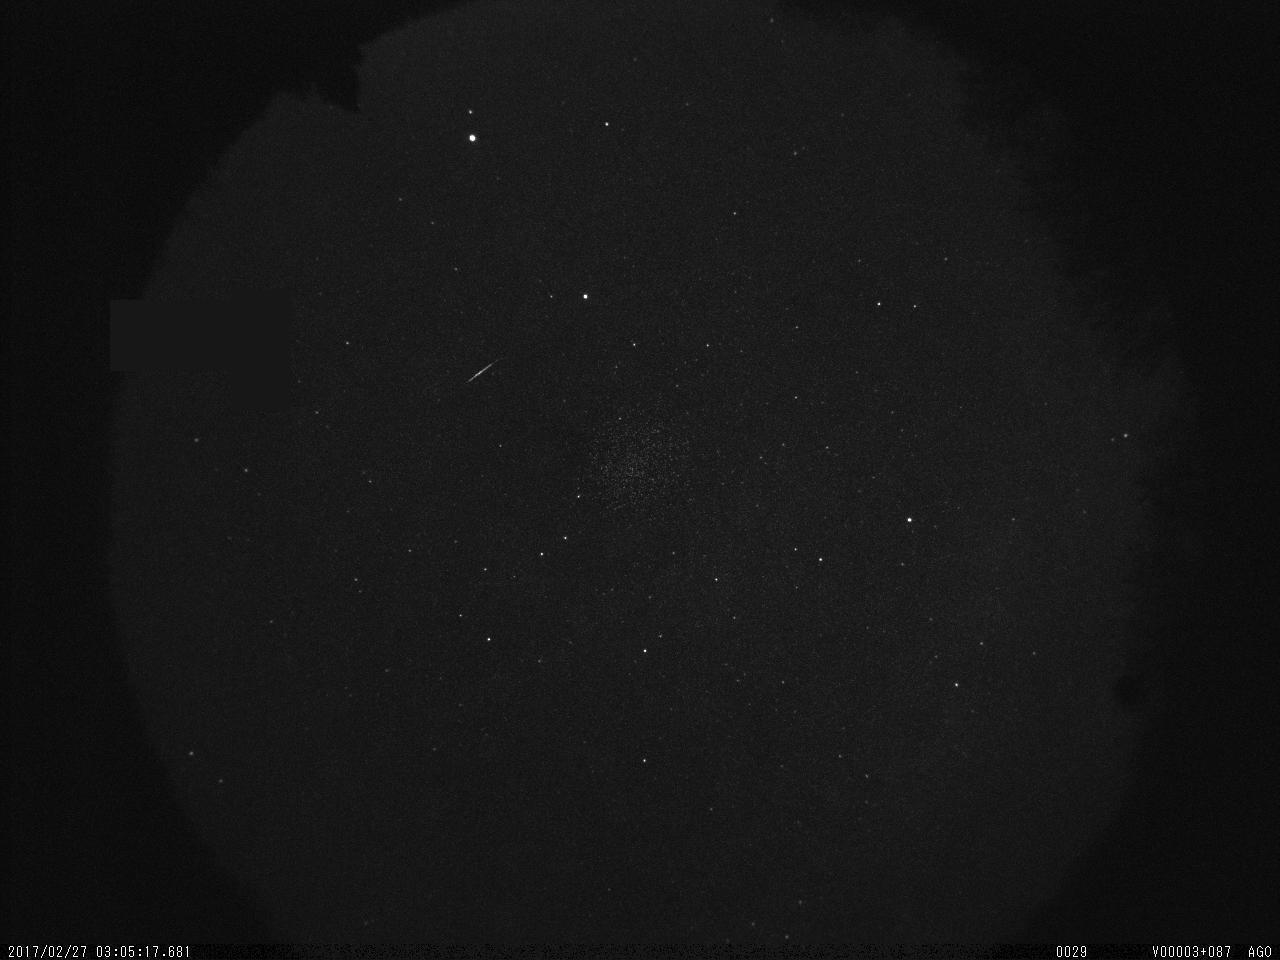Meteor: (467, 356, 505, 384)
